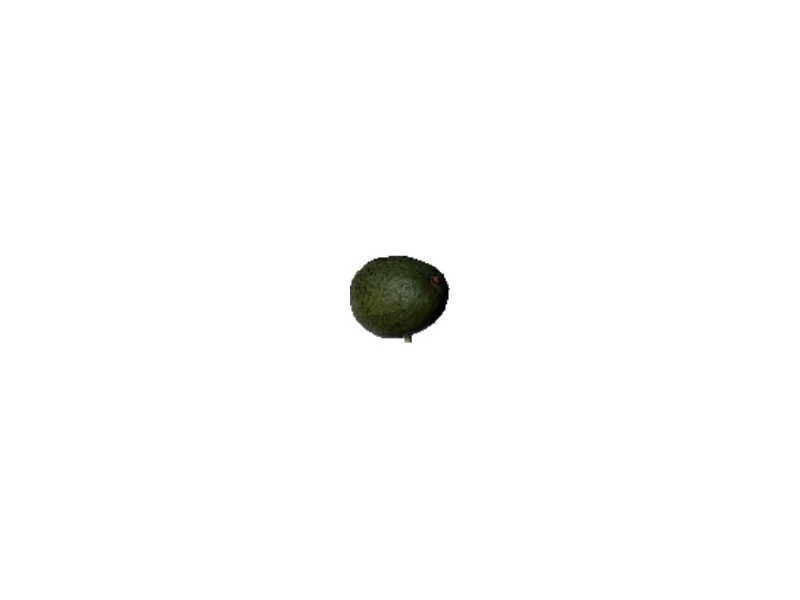abacate: (350, 253, 449, 340)
